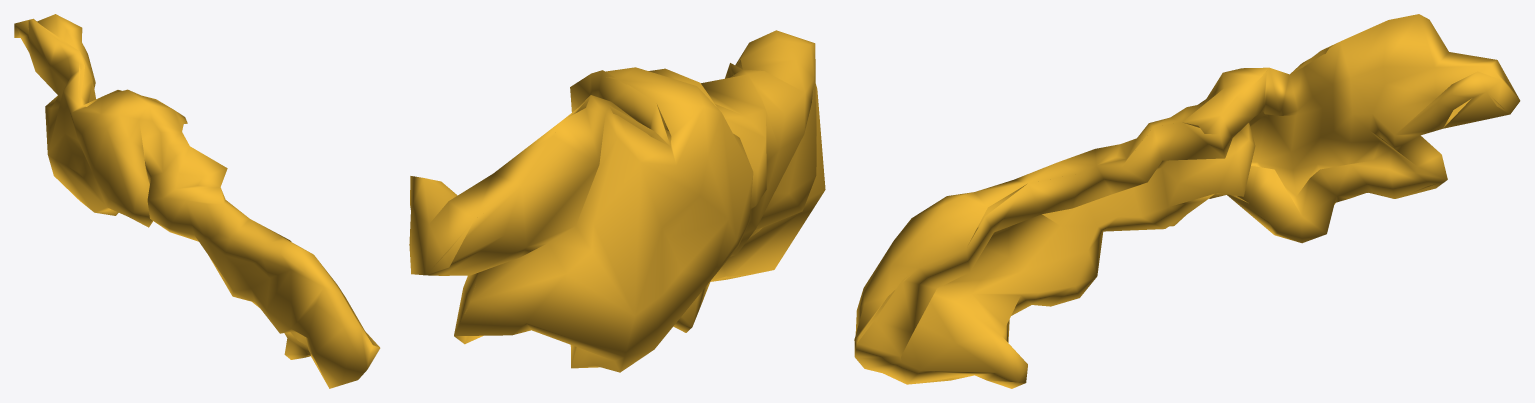
The model's file is nervoso-superior-temporal-gyrus-lateral-part-r.glb.
3 renders of one model, left to right at view 1: azimuth 30°, elevation 25°; view 2: azimuth 150°, elevation 25°; view 3: azimuth 270°, elevation 25°, orthographic. The views are drawn at different scales.
Visible parts, largest first — view 1: Superior temporal gyrus (Lateral part).r; view 2: Superior temporal gyrus (Lateral part).r; view 3: Superior temporal gyrus (Lateral part).r.
Part boxes in pixels (<box>): Superior temporal gyrus (Lateral part).r: <box>14,14,380,388</box>; Superior temporal gyrus (Lateral part).r: <box>409,30,825,372</box>; Superior temporal gyrus (Lateral part).r: <box>854,14,1520,388</box>.
Bounding box in the file's own units: 0.0254 × 0.0429 × 0.0823.
